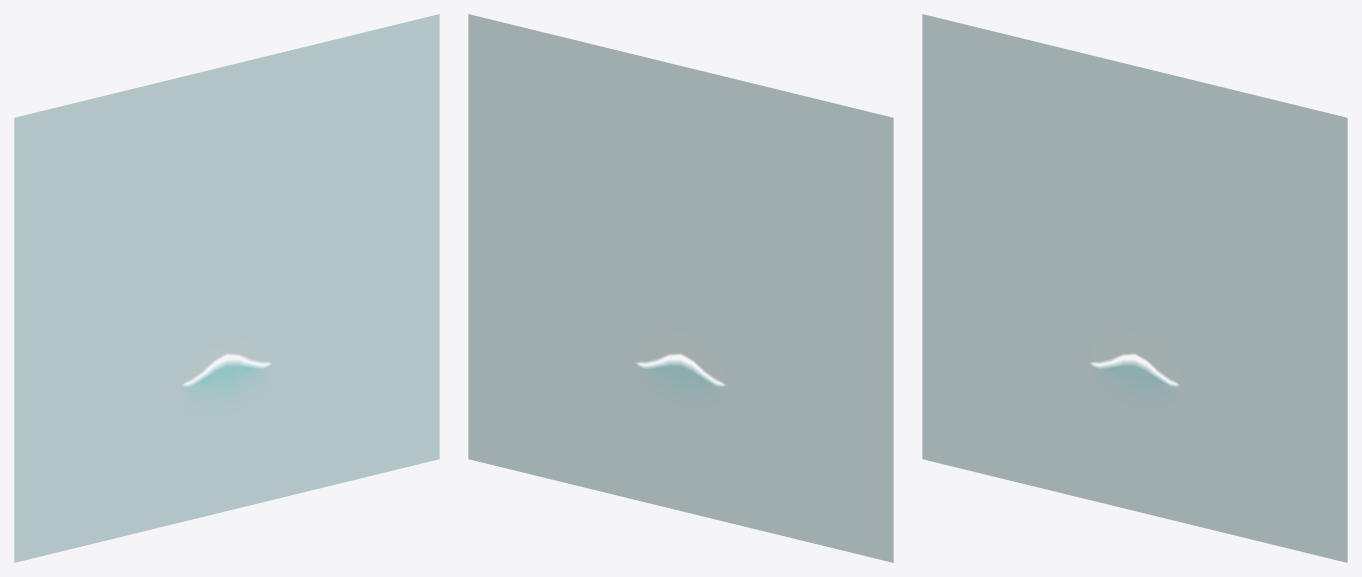
The model's file is FacePlaneMouthCutout.gltf.
3 renders of one model, left to right at view 1: azimuth 30°, elevation 25°; view 2: azimuth 150°, elevation 25°; view 3: azimuth 330°, elevation 25°, orthographic.
Parts seen in each view (by area): view 1: Plane005; view 2: Plane005; view 3: Plane005.
Part boxes in pixels (bbox=[...]): Plane005: bbox=[14, 14, 439, 562]; Plane005: bbox=[468, 14, 893, 562]; Plane005: bbox=[922, 14, 1347, 562].
Bounding box in the file's own units: 0.7 × 0.7 × 1.14e-07.
